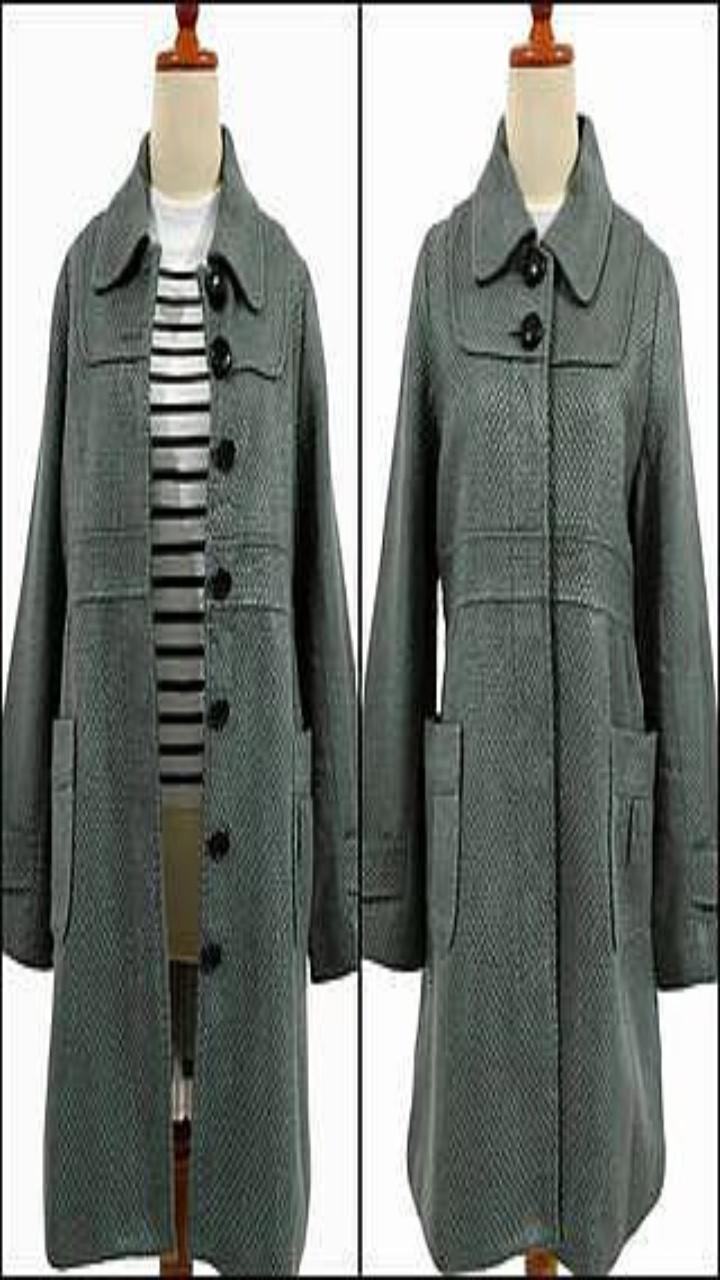Coat: (362, 117, 716, 1274), (188, 128, 356, 1273)
